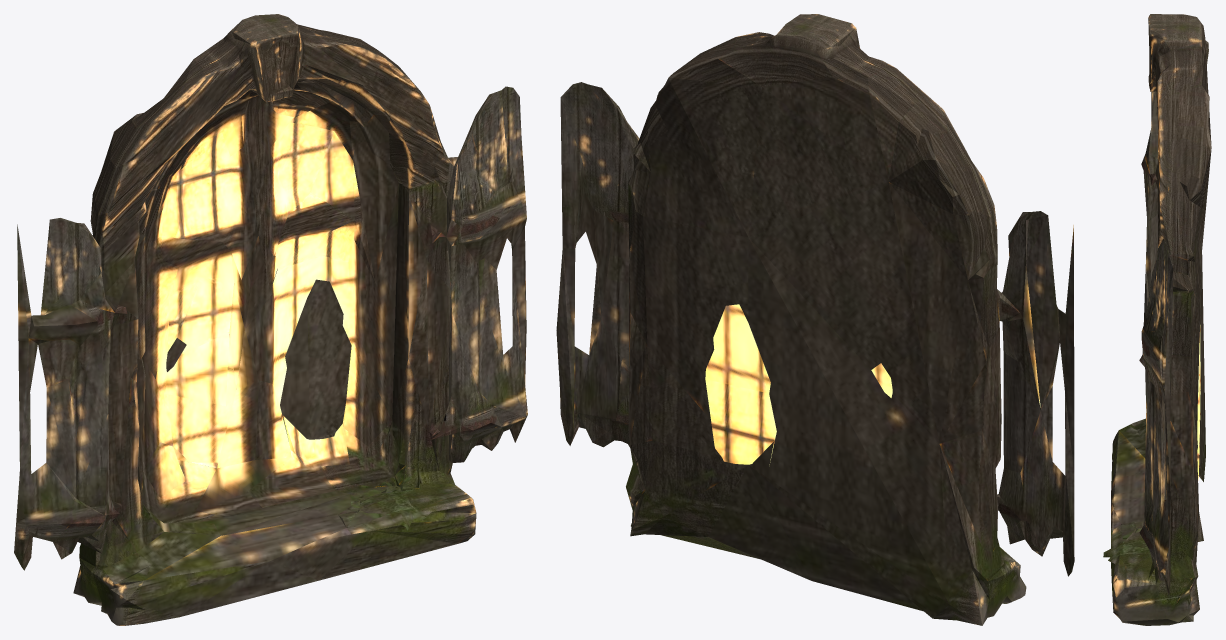
File: sp_m_window.glb
3 views of the same model, side by side, from view 1: azimuth 30°, elevation 25°; view 2: azimuth 150°, elevation 25°; view 3: azimuth 270°, elevation 25° (orthographic). The views are drawn at different scales.
Parts seen in each view (by area): view 1: output_unwrapped; view 2: output_unwrapped; view 3: output_unwrapped.
Boxes of the visible parts, x1,y1,x2,y2 form: output_unwrapped: [14, 14, 527, 625]; output_unwrapped: [556, 14, 1074, 625]; output_unwrapped: [1103, 14, 1211, 625].
Bounding box in the file's own units: 1.83 × 1.85 × 0.3492.
1 material, 1 textured.
